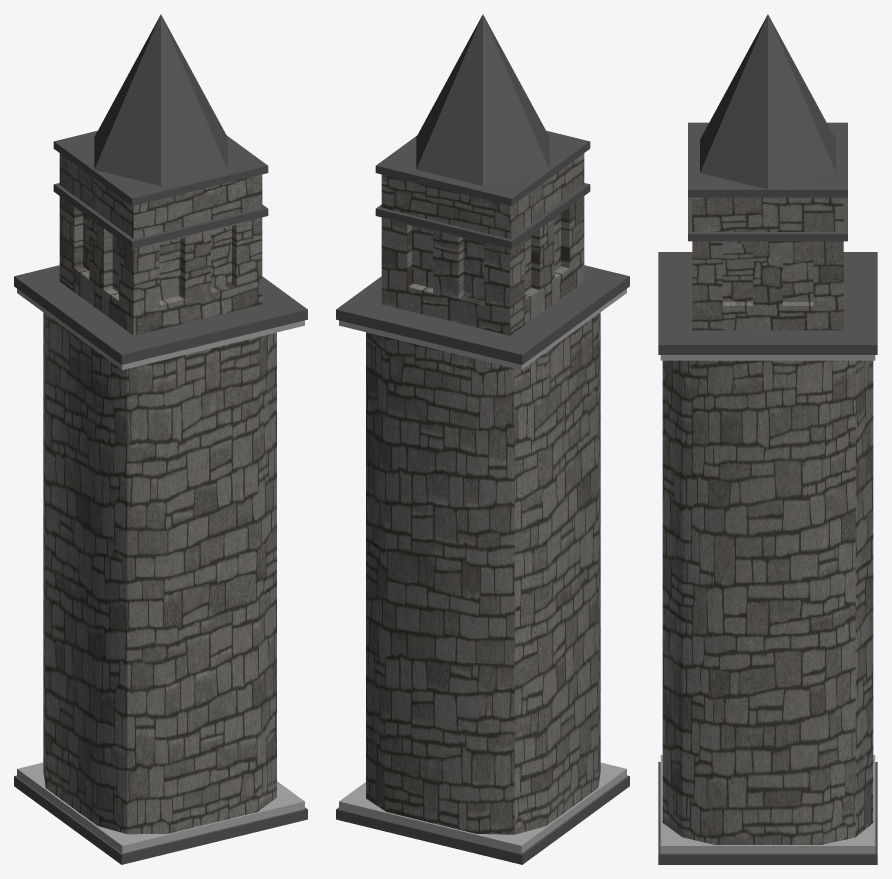
Rendered from castle_maintower.fbx.
3 renders of one model, left to right at view 1: azimuth 30°, elevation 25°; view 2: azimuth 150°, elevation 25°; view 3: azimuth 270°, elevation 25°, orthographic.
Parts seen in each view (by area): view 1: pCube1, pCube2, pCone1, pCube5, pCube4, pCube7, pCube6, pCube3, pCube8; view 2: pCube1, pCube2, pCone1, pCube5, pCube4, pCube7, pCube6, pCube3, pCube8; view 3: pCube1, pCube2, pCone1, pCube5, pCube4, pCube7, pCube6, pCube3, pCube8.
Boxes of the visible parts, x1=… form: pCube1: x1=43, y1=312, x2=276, y2=834; pCube2: x1=59, y1=153, x2=262, y2=335; pCone1: x1=94, y1=14, x2=227, y2=185; pCube5: x1=14, y1=265, x2=307, y2=364; pCube4: x1=53, y1=131, x2=268, y2=205; pCube7: x1=17, y1=762, x2=304, y2=853; pCube6: x1=14, y1=775, x2=307, y2=864; pCube3: x1=53, y1=183, x2=268, y2=248; pCube8: x1=17, y1=289, x2=304, y2=369; pCube1: x1=366, y1=312, x2=600, y2=834; pCube2: x1=381, y1=153, x2=584, y2=335; pCone1: x1=416, y1=14, x2=549, y2=185; pCube5: x1=336, y1=265, x2=629, y2=364; pCube4: x1=375, y1=131, x2=590, y2=205; pCube7: x1=339, y1=762, x2=626, y2=853; pCube6: x1=336, y1=775, x2=629, y2=864; pCube3: x1=375, y1=183, x2=590, y2=248; pCube8: x1=339, y1=289, x2=626, y2=369; pCube1: x1=662, y1=360, x2=873, y2=844; pCube2: x1=692, y1=197, x2=843, y2=330; pCone1: x1=700, y1=14, x2=835, y2=189; pCube5: x1=658, y1=252, x2=877, y2=354; pCube4: x1=688, y1=122, x2=847, y2=197; pCube7: x1=660, y1=755, x2=875, y2=853; pCube6: x1=658, y1=762, x2=877, y2=864; pCube3: x1=688, y1=197, x2=847, y2=241; pCube8: x1=660, y1=355, x2=875, y2=360.
Size of the model in its own units: 4.42 by 17.9 by 4.42.
